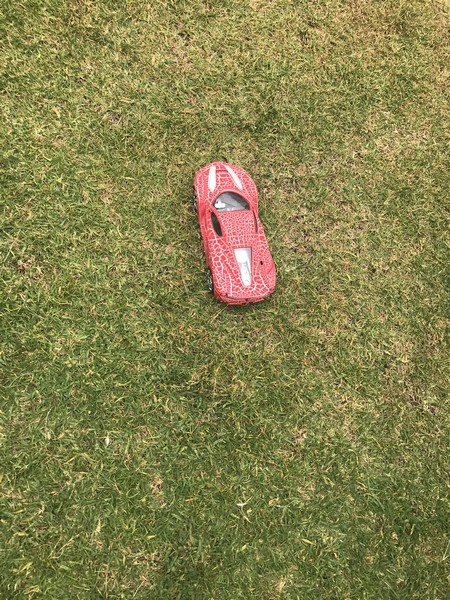RC: (189, 160, 278, 308)
